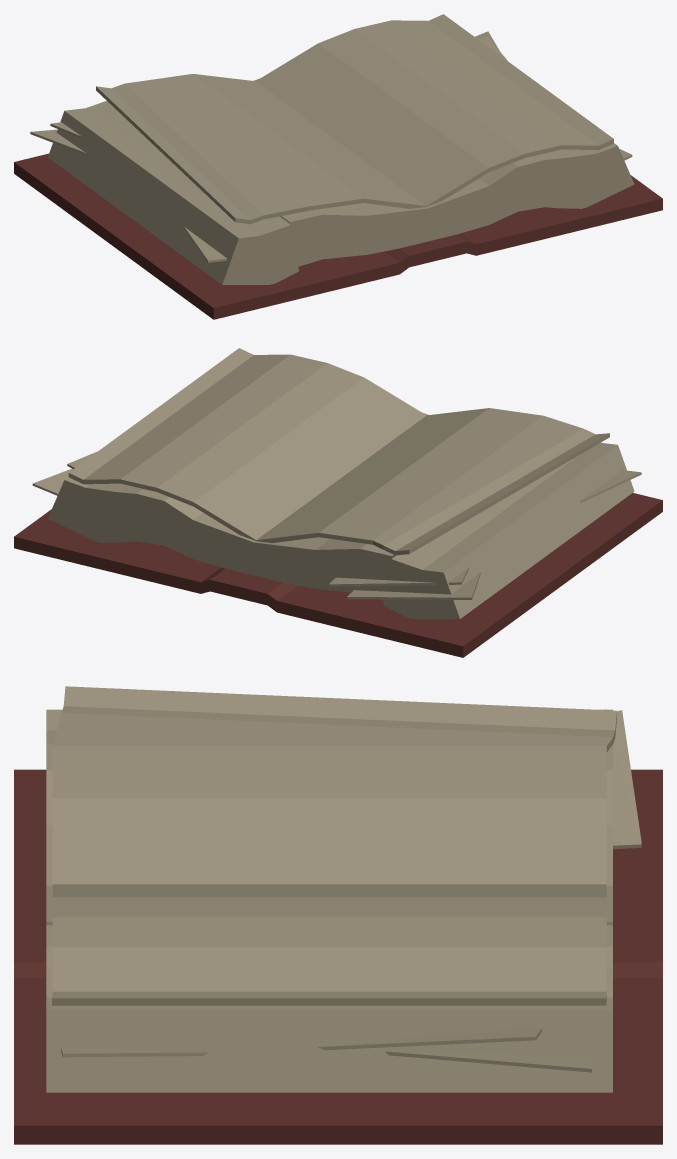
Rendered from book2_open.glb.
The picture shows the model from 3 angles, top to bottom: view 1: azimuth 30°, elevation 25°; view 2: azimuth 150°, elevation 25°; view 3: azimuth 270°, elevation 25°; orthographic projection. The views are drawn at different scales.
Parts seen in each view (by area): view 1: Book2_Open; view 2: Book2_Open; view 3: Book2_Open.
Boxes of the visible parts, box(x1,y1,x2,y2) form: Book2_Open: box(14, 14, 662, 319); Book2_Open: box(14, 348, 662, 657); Book2_Open: box(14, 686, 662, 1144).
Size of the model in its own units: 0.9292 by 0.1657 by 0.7102.
